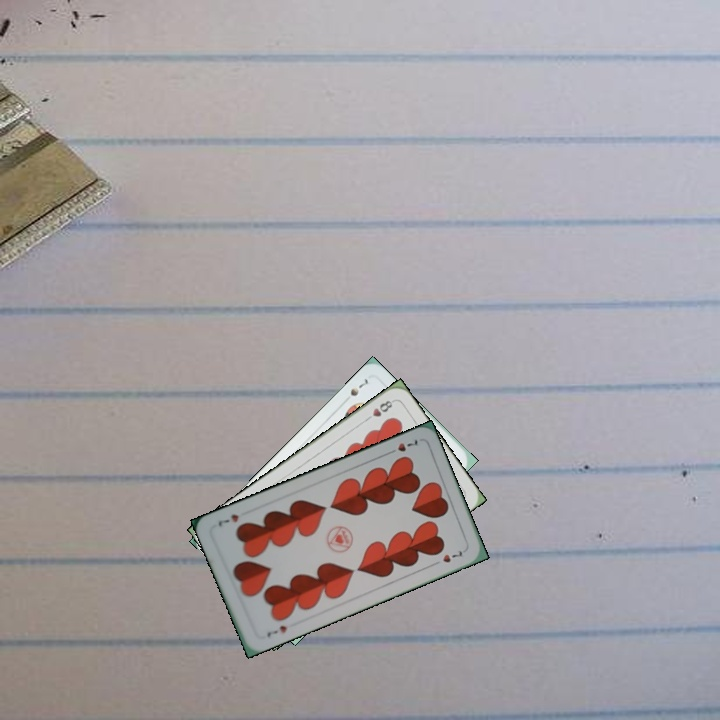H7: (383, 435, 420, 457), (263, 621, 289, 640)
H8: (361, 396, 396, 424)
S7: (346, 374, 371, 399)
